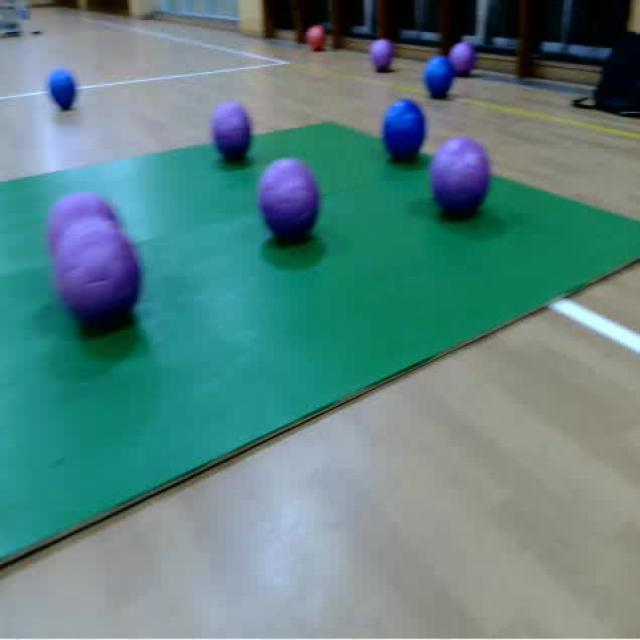blue_ball: (380, 96, 427, 166), (47, 70, 80, 111)
purple_ball: (55, 220, 143, 333), (48, 193, 123, 284), (254, 155, 322, 250), (427, 135, 491, 228), (211, 105, 254, 164), (453, 40, 477, 76), (372, 42, 395, 72)
red_ball: (308, 24, 328, 52)
